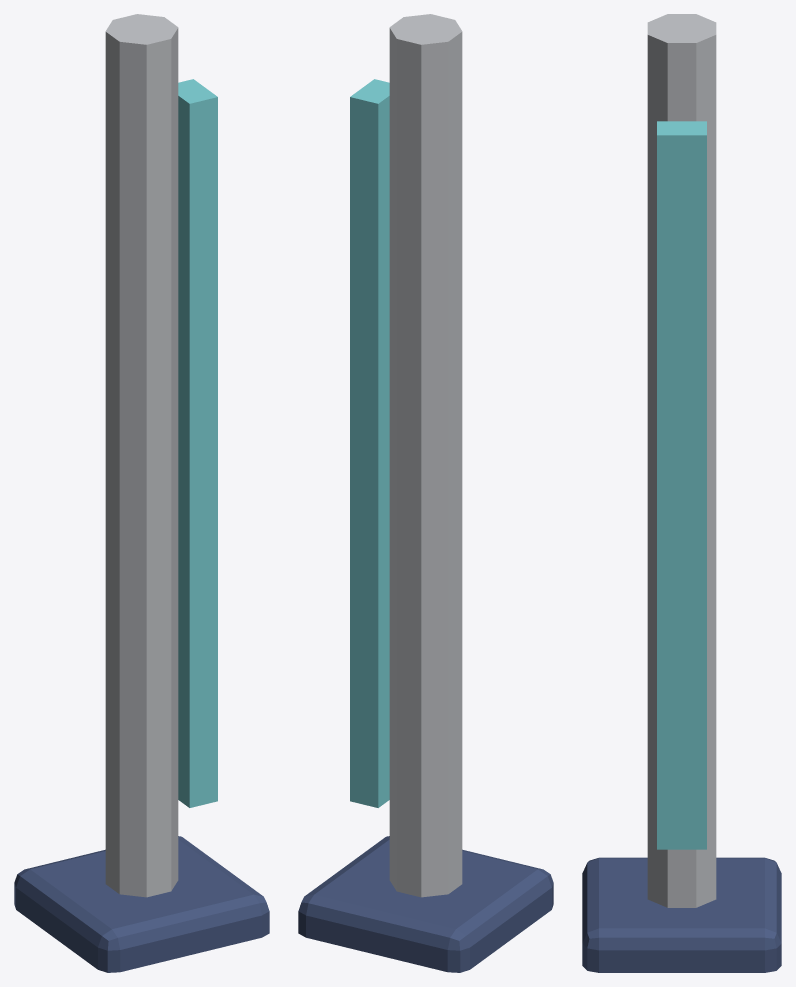
The model's file is rn2-orbital-post.glb.
3 views of the same model, side by side, from view 1: azimuth 30°, elevation 25°; view 2: azimuth 150°, elevation 25°; view 3: azimuth 270°, elevation 25° (orthographic).
Parts seen in each view (by area): view 1: rn2_orbital_post_body, rn2_orbital_post_glow; view 2: rn2_orbital_post_body, rn2_orbital_post_glow; view 3: rn2_orbital_post_body, rn2_orbital_post_glow.
Boxes of the visible parts, x1,y1,x2,y2 form: rn2_orbital_post_body: (14, 14, 269, 972); rn2_orbital_post_glow: (178, 79, 217, 807); rn2_orbital_post_body: (298, 14, 553, 972); rn2_orbital_post_glow: (350, 79, 389, 807); rn2_orbital_post_body: (582, 14, 781, 972); rn2_orbital_post_glow: (657, 121, 706, 849).
Size of the model in its own units: 0.24 by 1.2 by 0.24.
